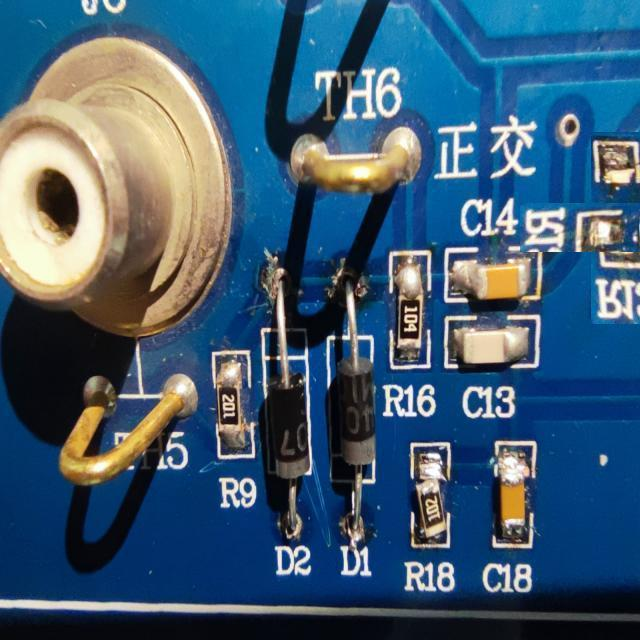miss_welding: (555, 167, 640, 288)
